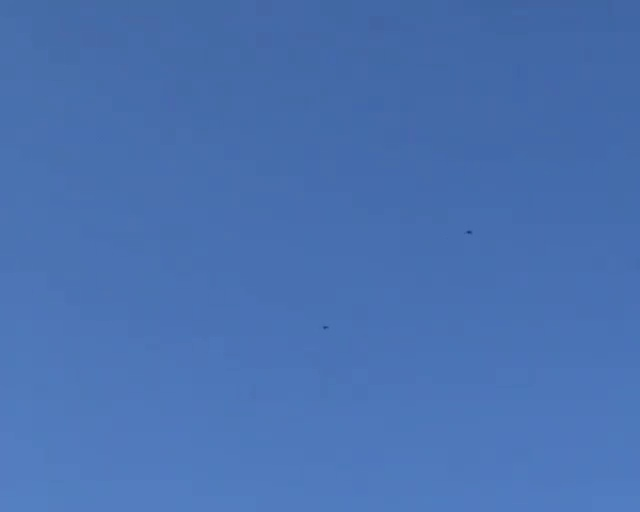BIRD: (463, 226, 475, 238)
